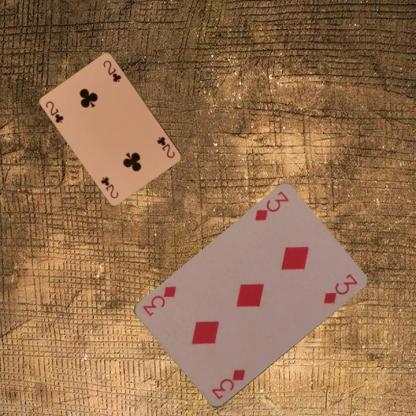2c: (154, 134, 176, 160), (44, 98, 66, 124)
3d: (252, 188, 290, 223), (209, 366, 246, 401)
